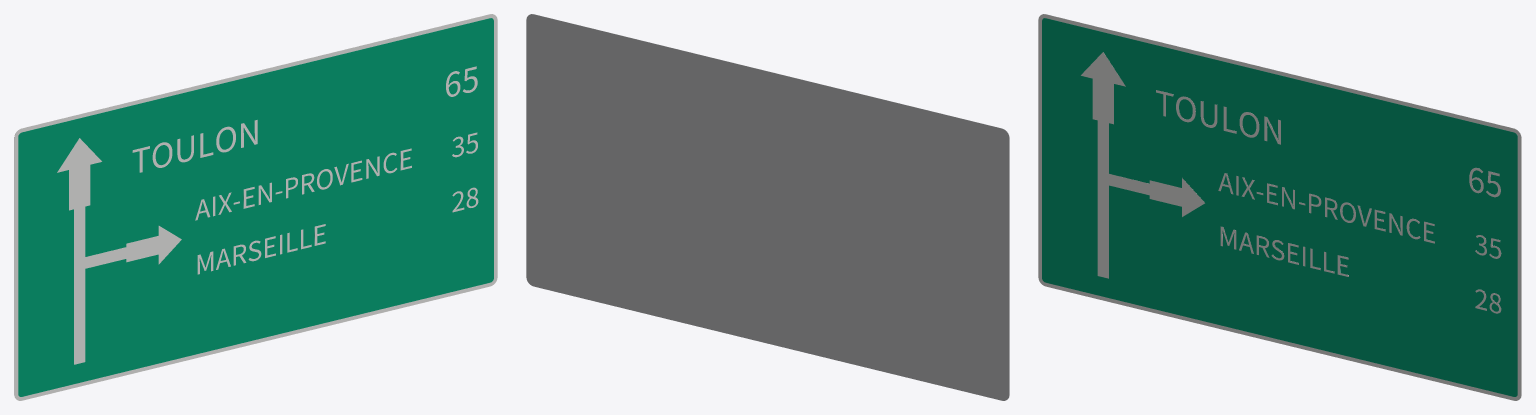
The picture shows the model from 3 angles, left to right: view 1: azimuth 30°, elevation 25°; view 2: azimuth 150°, elevation 25°; view 3: azimuth 330°, elevation 25°; orthographic projection.
Visible parts, largest first — view 1: D40_fond01, D40_cadre00, D40_tronc02, D40_txt08, D40_tete03, D40_txt06, D40_tb05, D40_txt10, D40_br04; view 2: D40_dos; view 3: D40_fond01, D40_cadre00, D40_tronc02, D40_txt08, D40_tete03, D40_txt06, D40_tb05, D40_txt10, D40_br04.
Part boxes in pixels (x1=…): D40_fond01: x1=18, y1=18, x2=493, y2=396; D40_cadre00: x1=14, y1=14, x2=497, y2=400; D40_tronc02: x1=74, y1=206, x2=85, y2=364; D40_txt08: x1=195, y1=148, x2=411, y2=220; D40_tete03: x1=57, y1=138, x2=101, y2=210; D40_txt06: x1=132, y1=120, x2=257, y2=172; D40_tb05: x1=126, y1=226, x2=181, y2=264; D40_txt10: x1=197, y1=224, x2=325, y2=274; D40_br04: x1=79, y1=247, x2=126, y2=269; D40_dos: x1=526, y1=14, x2=1009, y2=400; D40_fond01: x1=1042, y1=18, x2=1517, y2=396; D40_cadre00: x1=1038, y1=14, x2=1521, y2=400; D40_tronc02: x1=1097, y1=120, x2=1108, y2=278; D40_txt08: x1=1218, y1=173, x2=1434, y2=243; D40_tete03: x1=1081, y1=52, x2=1125, y2=124; D40_txt06: x1=1156, y1=90, x2=1280, y2=144; D40_tb05: x1=1149, y1=178, x2=1204, y2=216; D40_txt10: x1=1220, y1=226, x2=1348, y2=276; D40_br04: x1=1103, y1=172, x2=1149, y2=195.
Size of the model in its own units: 2.6 by 1.4 by 0.0061.
